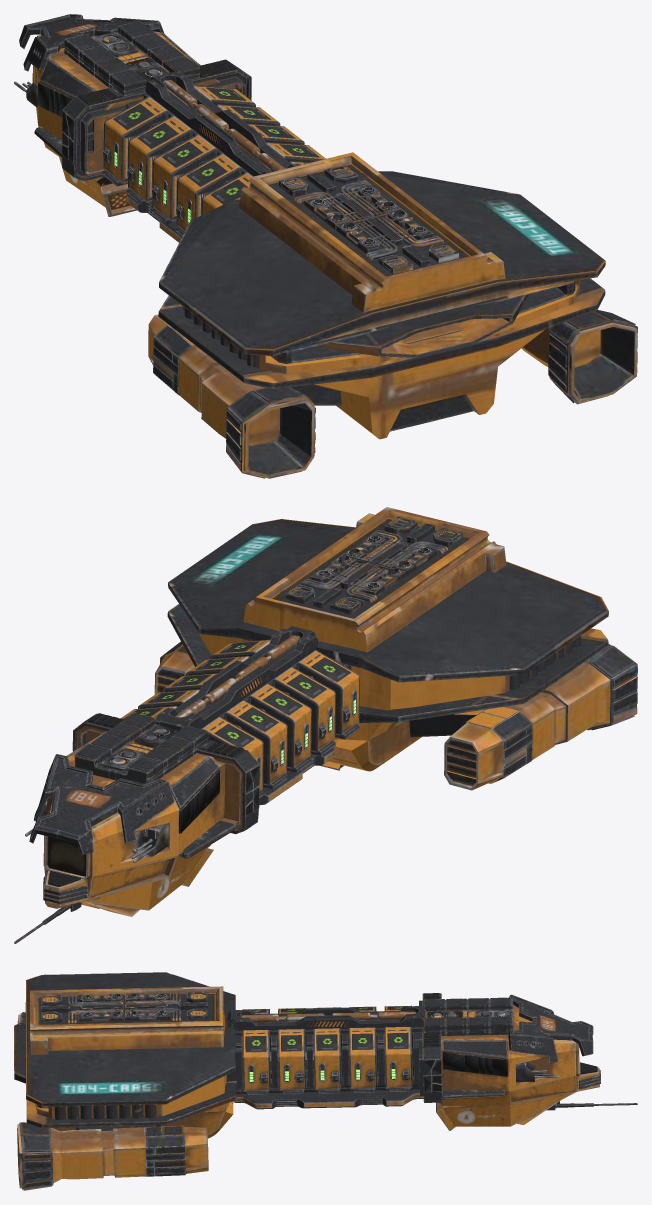
3 views of the same model, one above another, from view 1: azimuth 30°, elevation 25°; view 2: azimuth 150°, elevation 25°; view 3: azimuth 270°, elevation 25° (orthographic). The views are drawn at different scales.
Visible parts, largest first — view 1: defaultMaterial (×3); view 2: defaultMaterial (×3); view 3: defaultMaterial (×3).
Part boxes in pixels (box(x1,y1,x2,y2)): defaultMaterial (×3): box(14, 14, 637, 478); defaultMaterial (×3): box(14, 507, 637, 943); defaultMaterial (×3): box(14, 972, 637, 1190).
Size of the model in its own units: 8822 by 3787 by 16478.
Materials: 3 (3 with a texture image).
